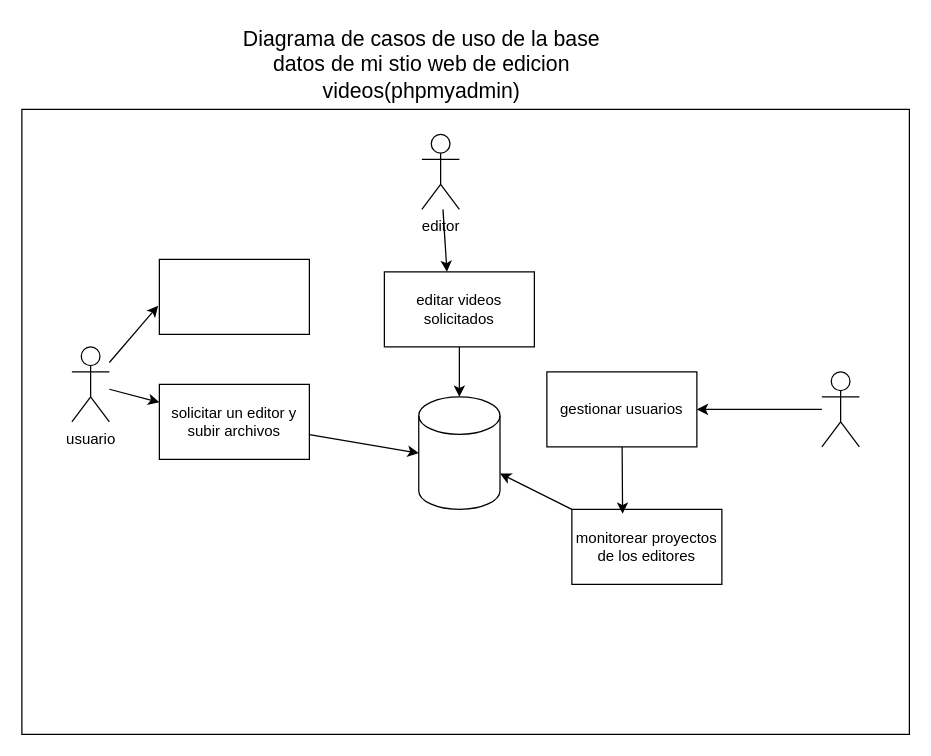
Some shapes in this 931 by 756 pixel diagram are drawn without their labels. The box of each missing label's shape, as (x1, y1, x2, y2) in pixels:
administrador: (821, 371, 859, 447)
BD: (418, 396, 500, 509)
registrarse: (158, 258, 309, 334)
